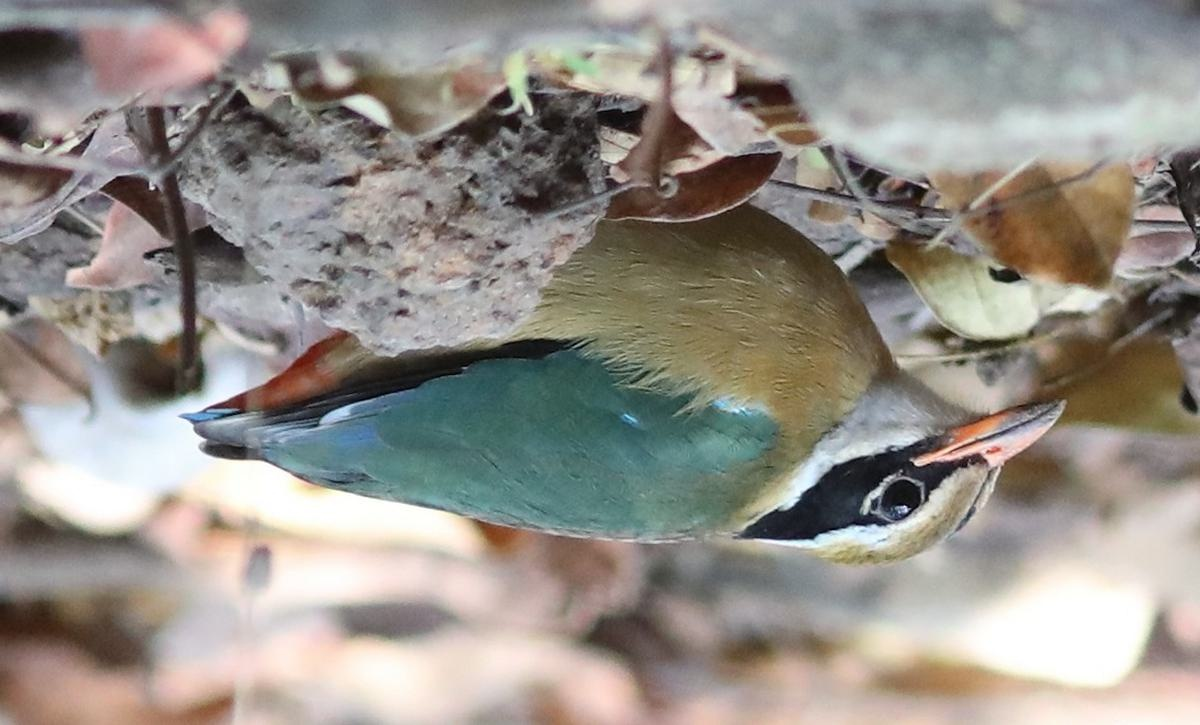pitta: (93, 85, 1071, 572)
